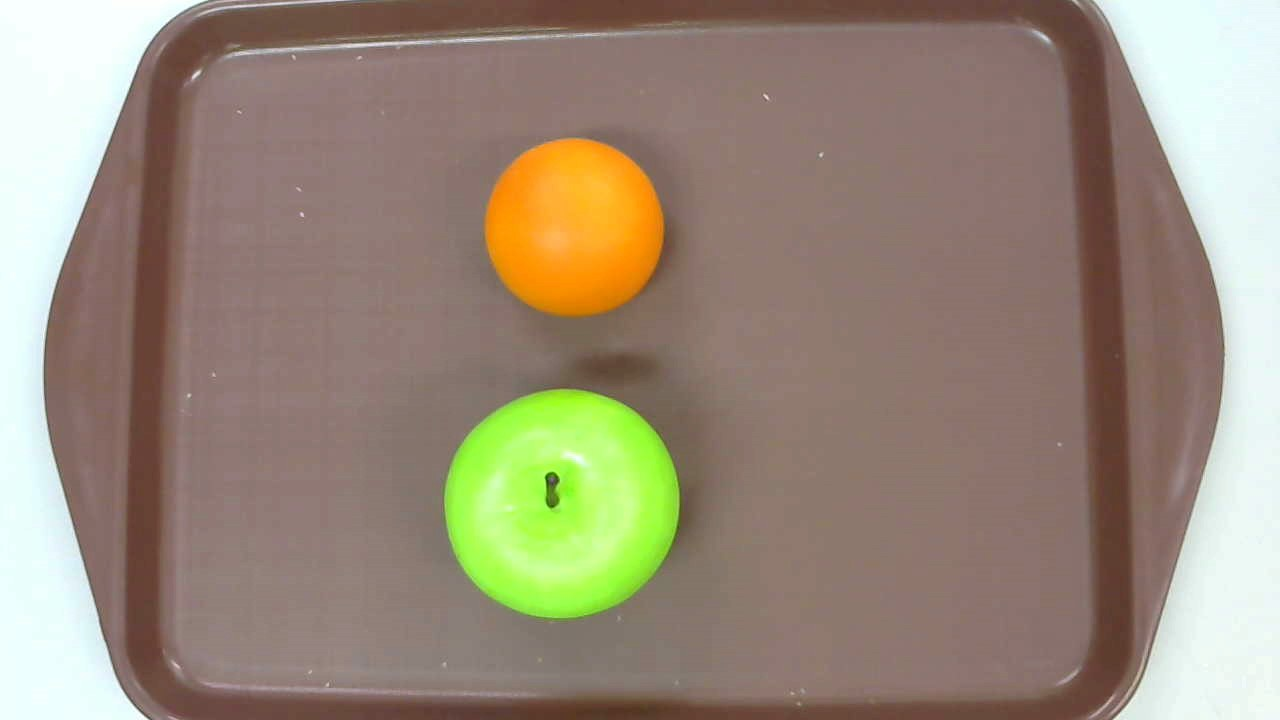bun: (483, 138, 665, 318)
green apple: (441, 386, 682, 619)
